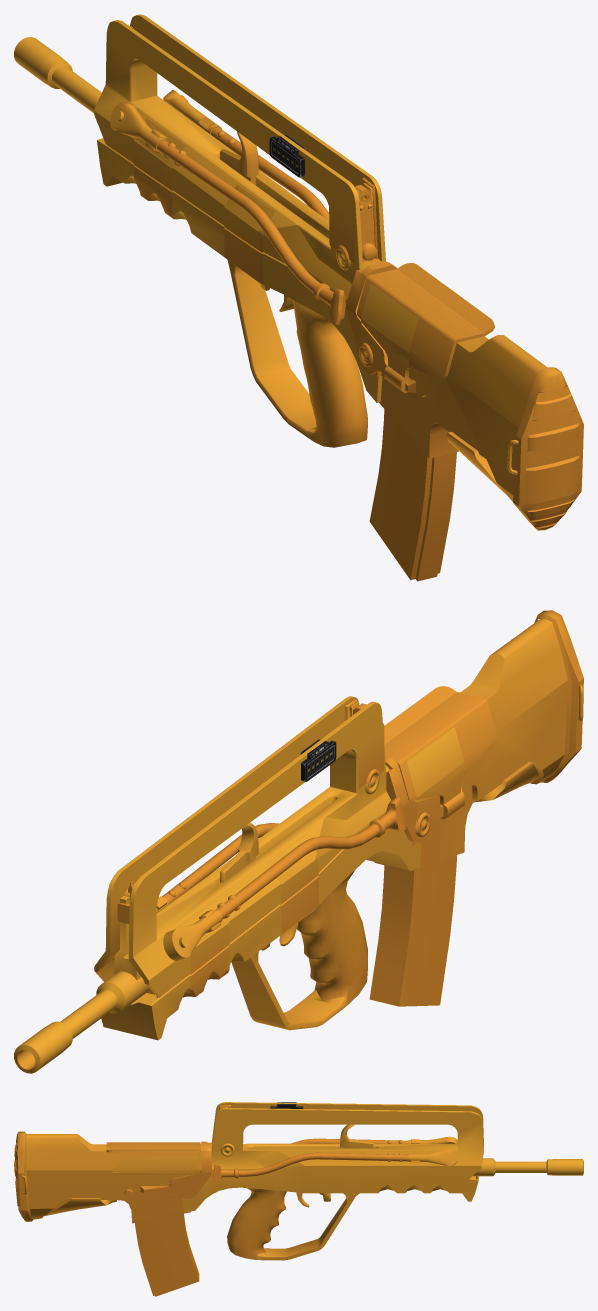
File: famas.glb
3 views of the same model, one above another, from view 1: azimuth 30°, elevation 25°; view 2: azimuth 150°, elevation 25°; view 3: azimuth 270°, elevation 25° (orthographic). The views are drawn at different scales.
Visible parts, largest first — view 1: LOD_Template, Magazine1, Sticker4, Sticker2, Sticker1, Sticker3, Gunlock1, StatTrack.001; view 2: LOD_Template, Magazine1, Sticker4, Sticker2, Sticker1, Sticker3, Gunlock1, StatTrack.001; view 3: LOD_Template, Magazine1, Gunlock1.
Boxes of the visible parts, box(x1,y1,x2,y2) form: LOD_Template: box(14, 14, 583, 530); Magazine1: box(369, 409, 456, 581); Sticker4: box(359, 283, 418, 401); Sticker2: box(224, 185, 274, 283); Sticker1: box(133, 118, 184, 218); Sticker3: box(329, 198, 355, 263); Gunlock1: box(220, 131, 258, 185); StatTrack.001: box(269, 134, 305, 177); LOD_Template: box(14, 610, 583, 1073); Magazine1: box(369, 855, 456, 1006); Sticker4: box(407, 727, 464, 846); Sticker2: box(268, 834, 318, 933); Sticker1: box(179, 900, 229, 997); Sticker3: box(358, 723, 384, 788); Gunlock1: box(220, 823, 258, 882); StatTrack.001: box(300, 739, 336, 781); LOD_Template: box(14, 1102, 583, 1260); Magazine1: box(135, 1213, 199, 1296); Gunlock1: box(111, 1124, 373, 1172).
Bounding box in the file's own units: 0.0718 × 0.3181 × 0.8739.
6 materials, 6 textured.
